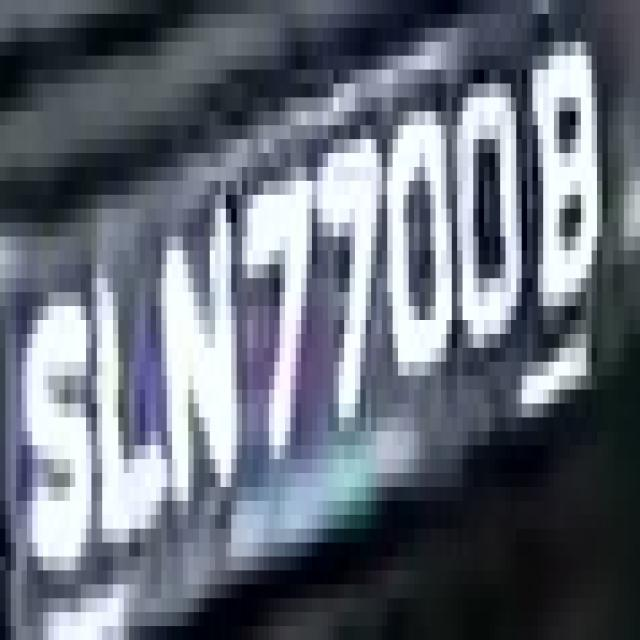0: (441, 84, 538, 404), (366, 111, 457, 418)
7: (301, 153, 377, 487), (226, 181, 306, 459)
B: (527, 42, 624, 334)
L: (80, 237, 166, 570)
N: (150, 194, 252, 528)
S: (16, 264, 97, 543)
